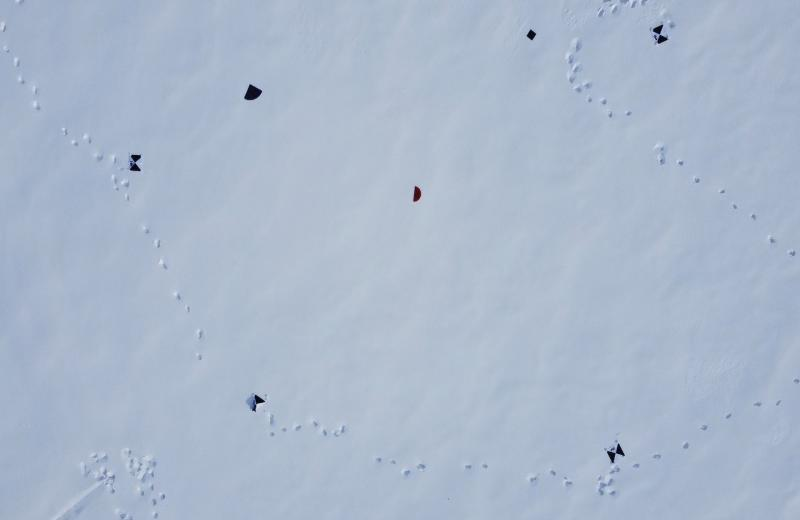Quarter Circle: (243, 83, 264, 103)
Semi Circle: (412, 186, 423, 202)
Square: (526, 28, 537, 43)
